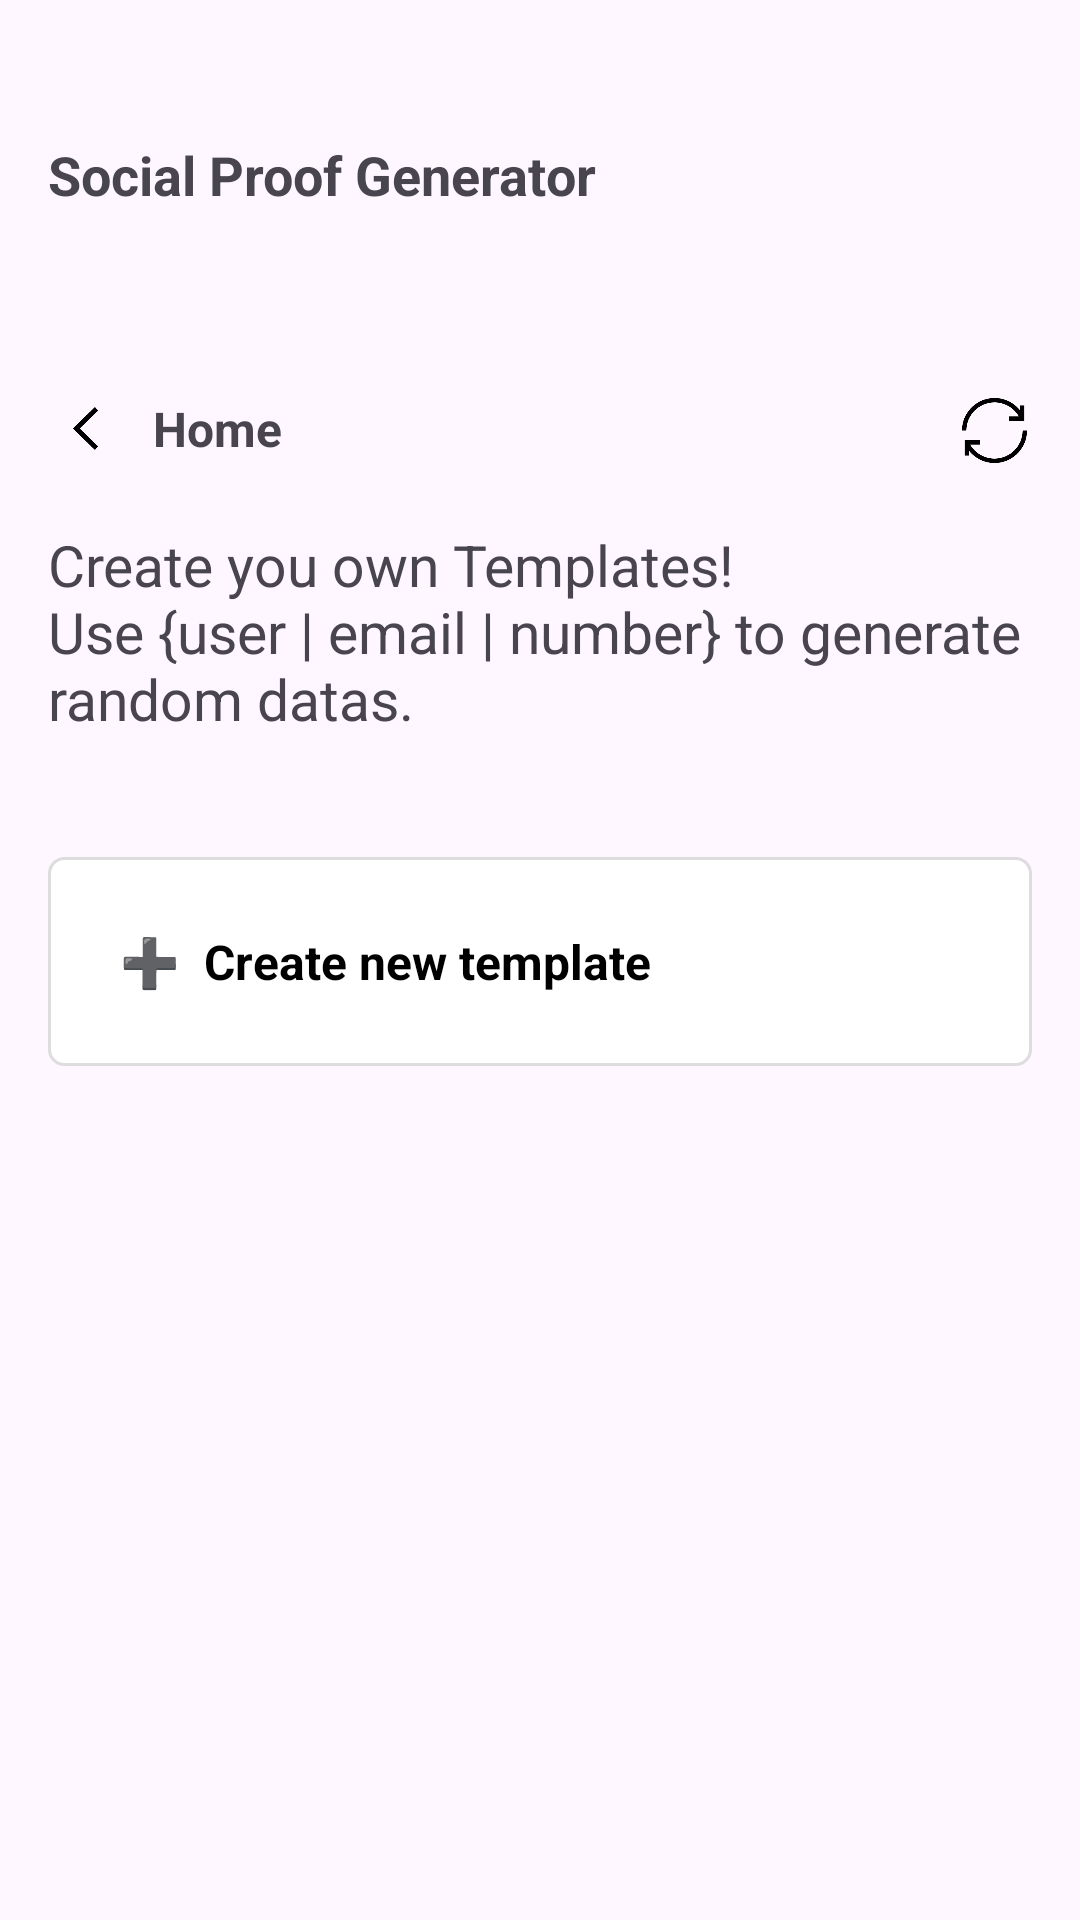

Icon bounding boxes for this 1080 x 1920 phone screenshot, format (x1, y1, x2, y2):
backarrow: (73, 407, 98, 450)
reset: (962, 398, 1027, 463)
